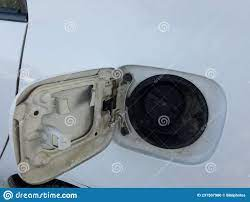open: (111, 63, 222, 159)
